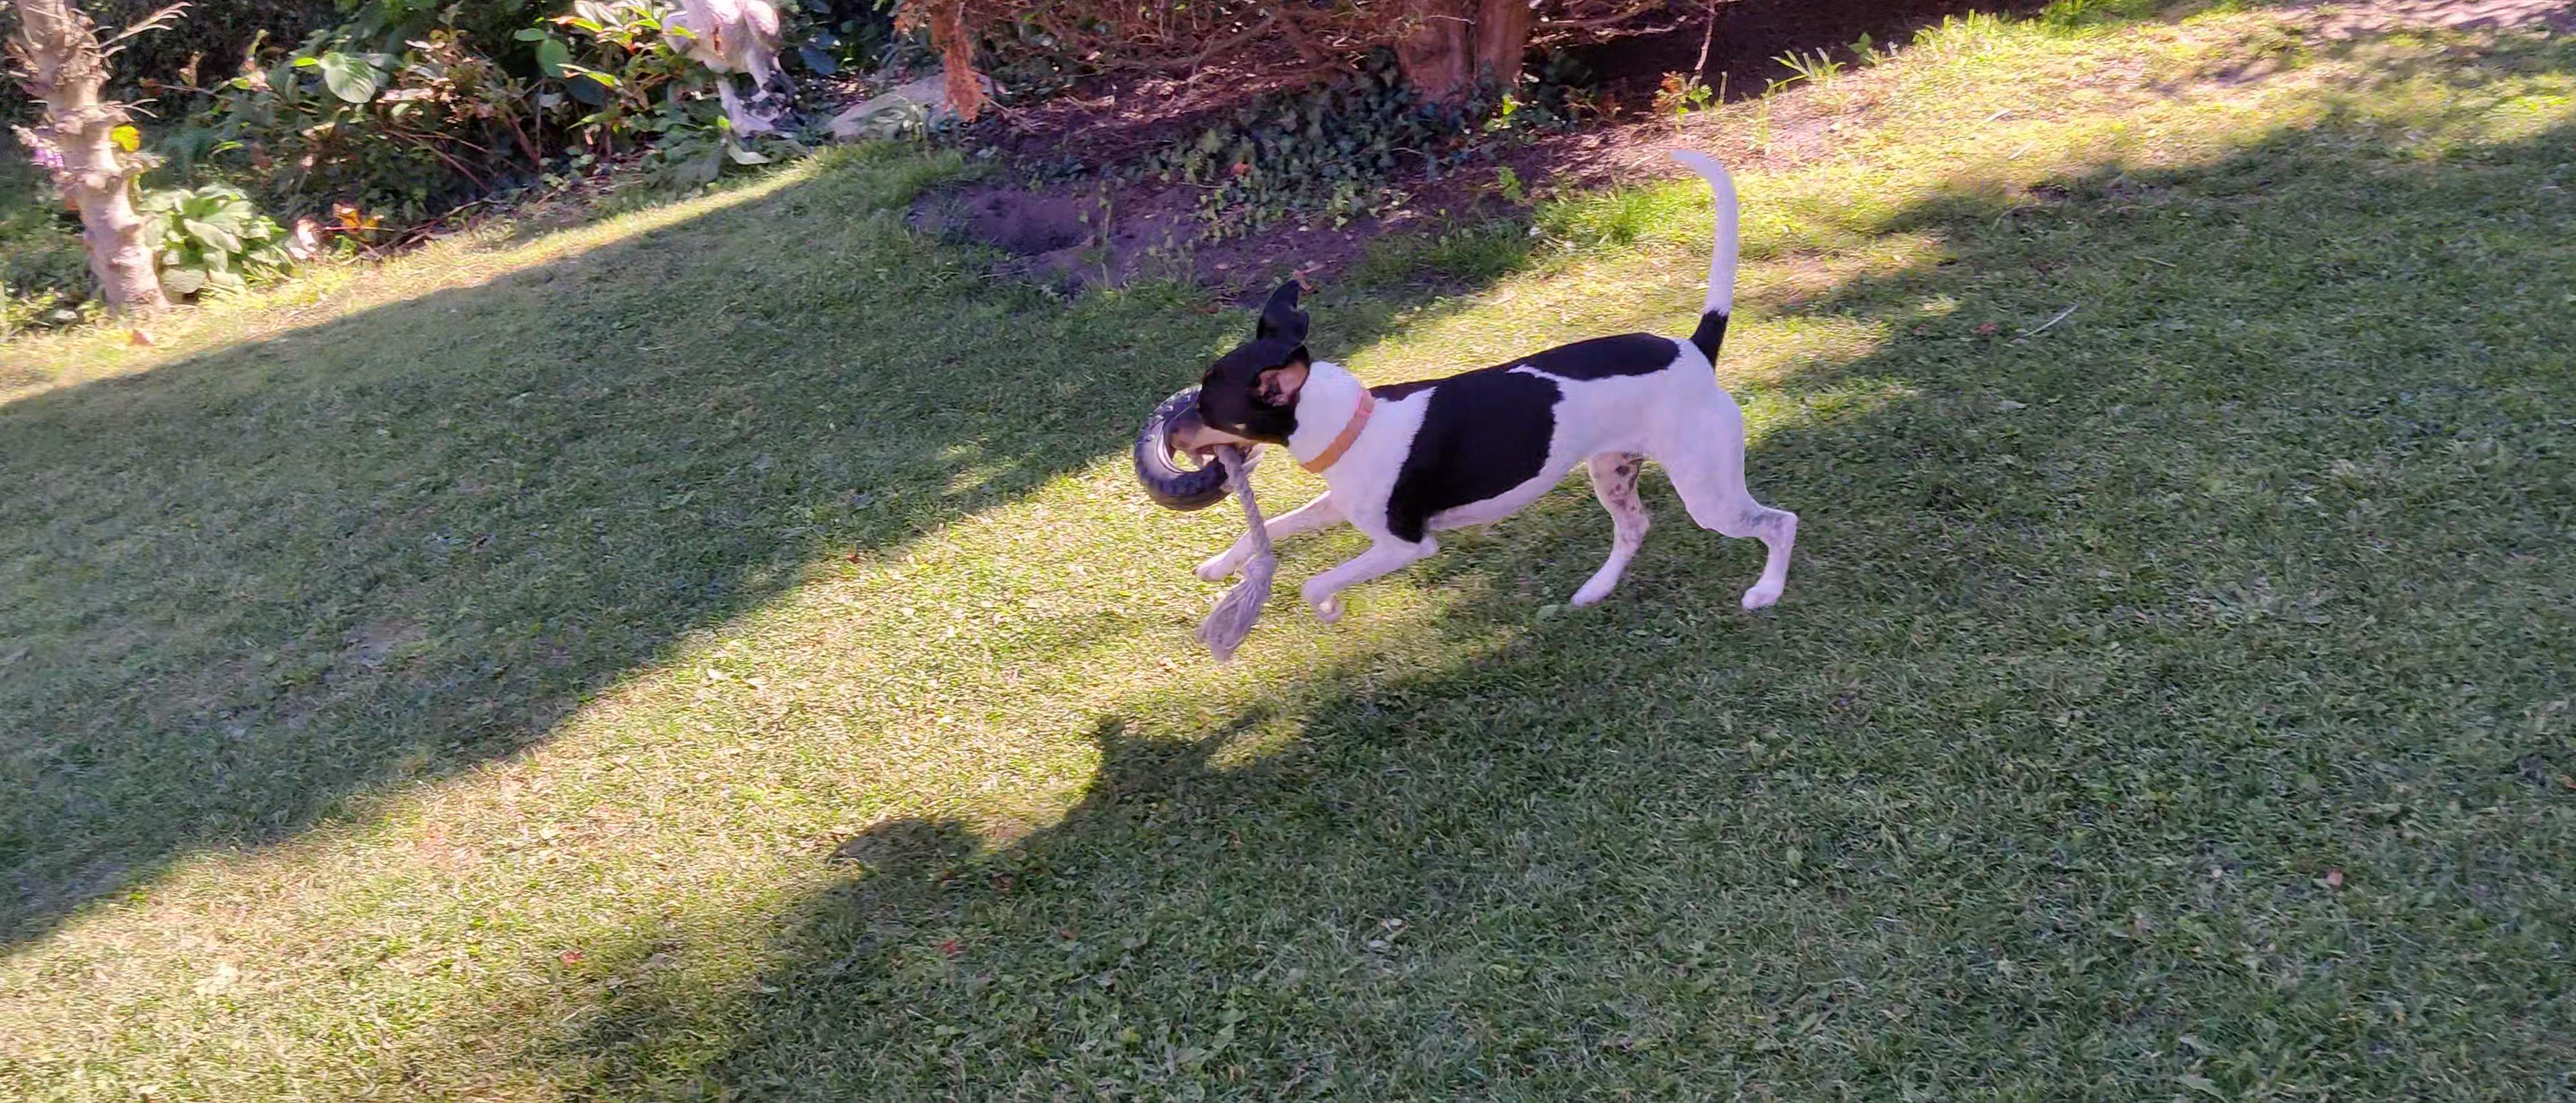Dog: (1147, 138, 1855, 636)
